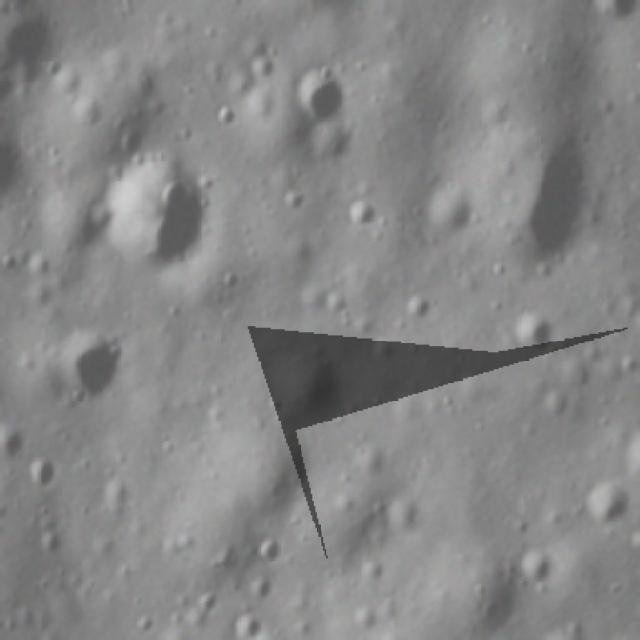crater: (100, 150, 218, 282), (50, 325, 136, 406), (288, 59, 347, 126), (430, 176, 478, 250), (22, 448, 63, 500), (512, 310, 554, 359), (345, 191, 386, 235), (397, 285, 437, 330), (130, 600, 164, 640), (0, 420, 28, 466), (234, 623, 300, 640), (252, 538, 292, 565)
